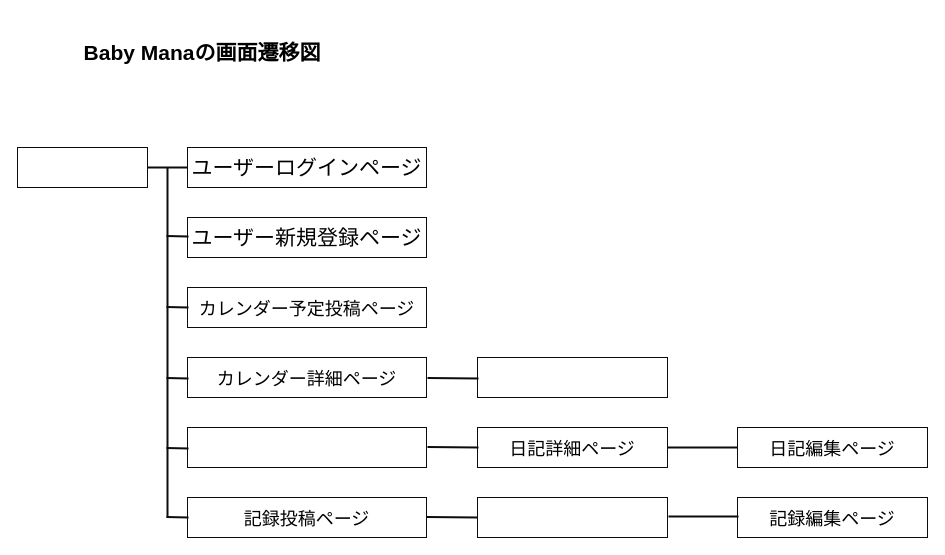
Image size: 945x555. Some labels were removed from this diagram. The shapes that lost their labels are listed below. From the top down, each one's centre as x and y in pixels, then its label:
pixel 82 167: Topページ
pixel 572 377: カレンダー編集ページ
pixel 306 447: 日記投稿ページ
pixel 572 517: 記録詳細ページ
